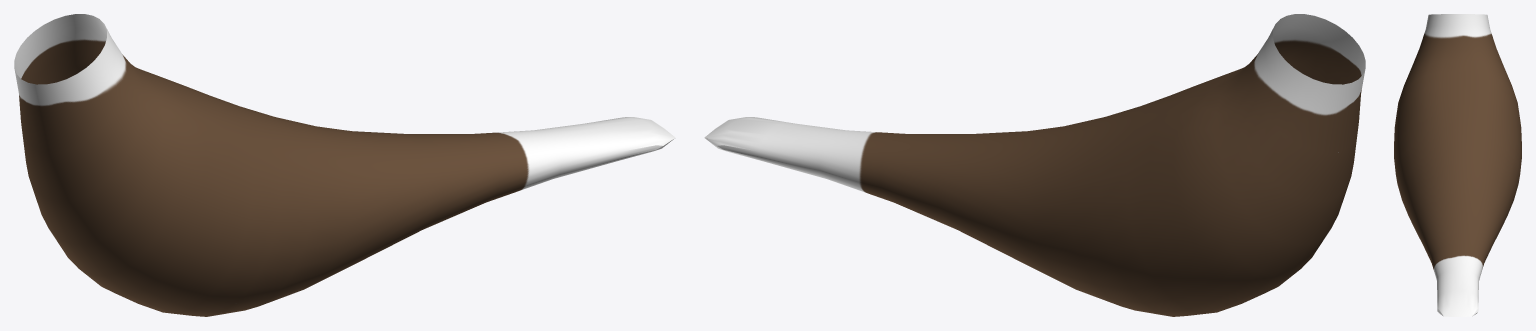
File: Eagle Body.fbx
3 views of the same model, side by side, from view 1: azimuth 30°, elevation 25°; view 2: azimuth 150°, elevation 25°; view 3: azimuth 270°, elevation 25° (orthographic). The views are drawn at different scales.
Parts seen in each view (by area): view 1: Eagle Body; view 2: Eagle Body; view 3: Eagle Body.
Part boxes in pixels (left/top/right/bottom): Eagle Body: left=14, top=14, right=675, bottom=316; Eagle Body: left=704, top=14, right=1365, bottom=316; Eagle Body: left=1394, top=14, right=1521, bottom=316.
Size of the model in its own units: 4.39 by 1.3 by 2.05.
